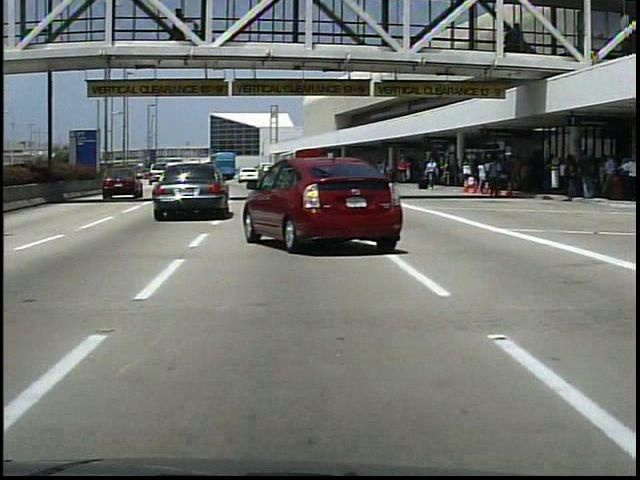person: (486, 157, 504, 205), (170, 10, 187, 43), (425, 160, 441, 193)
